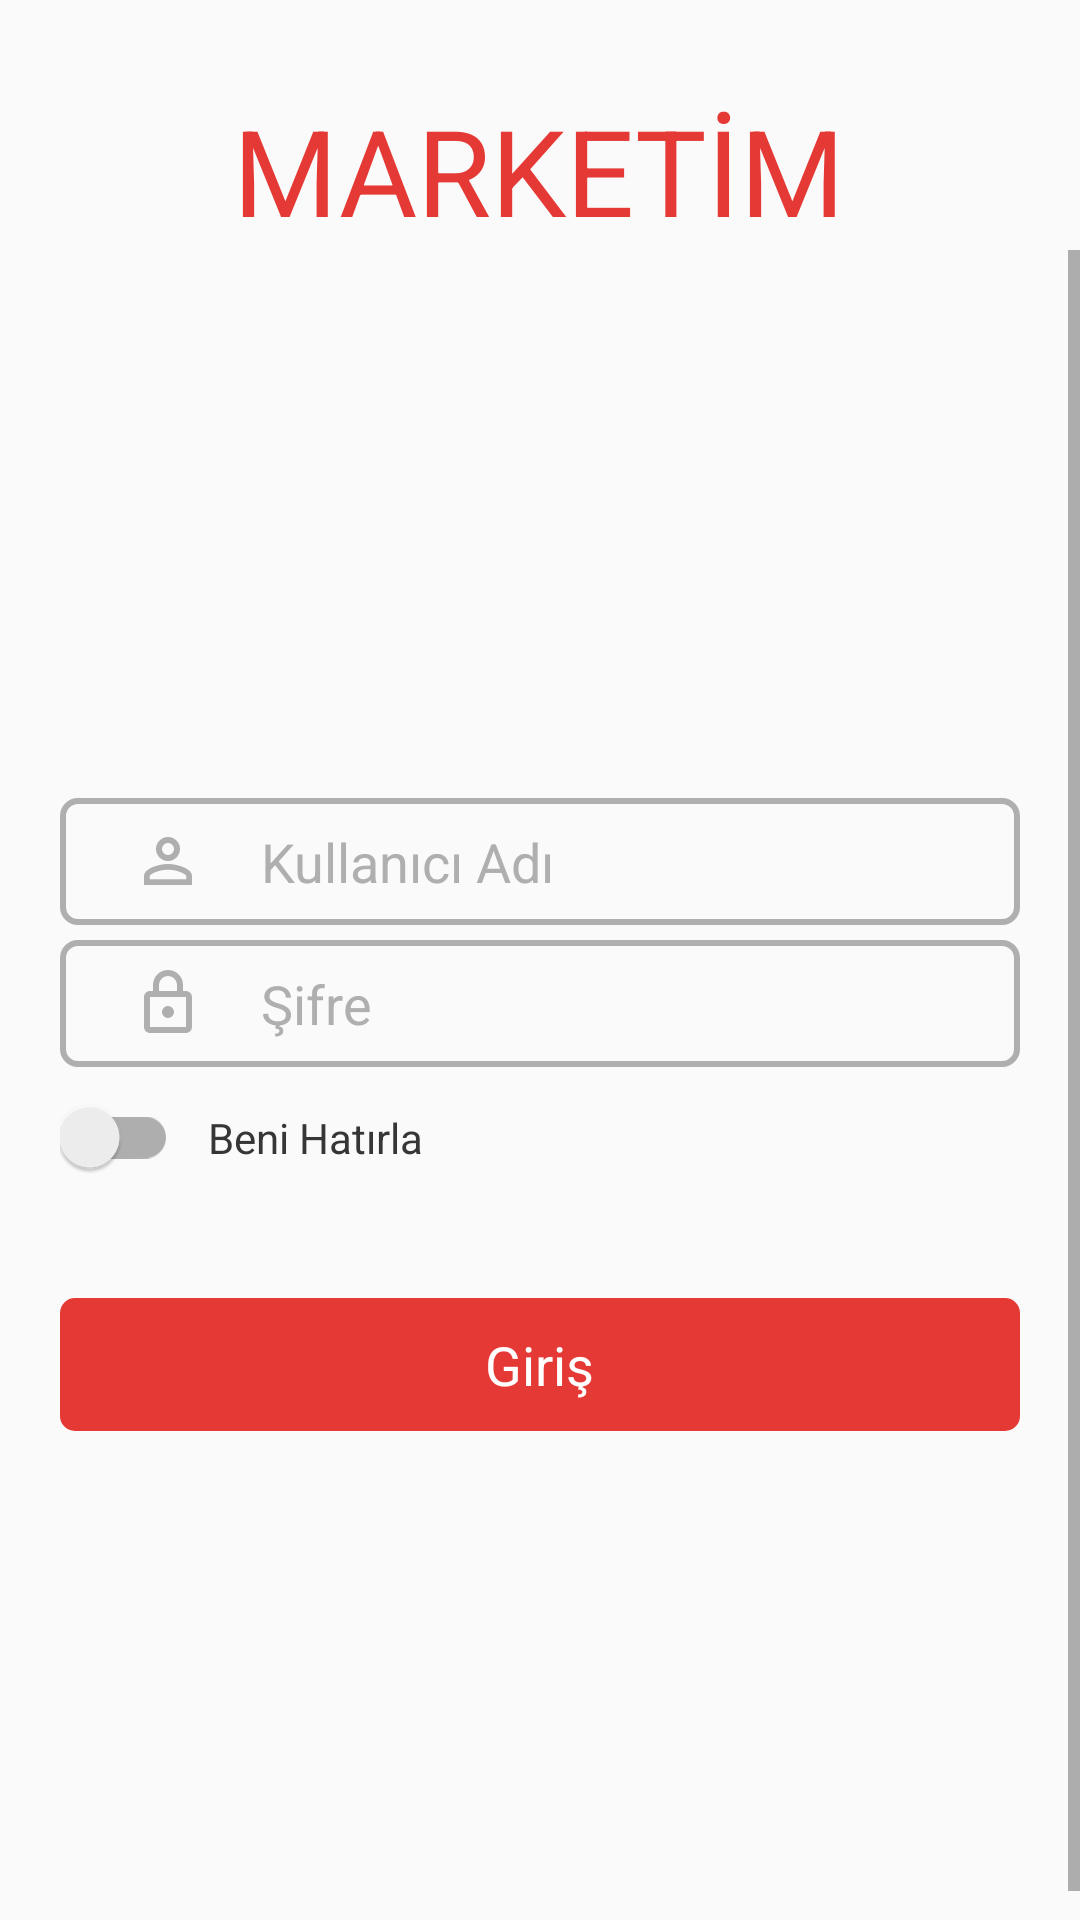

Screen size 1080*1920. Icon name, then its box in pixels as (x1, y1, x2, y2):
account: (144, 837, 192, 885)
lock: (144, 970, 192, 1033)
